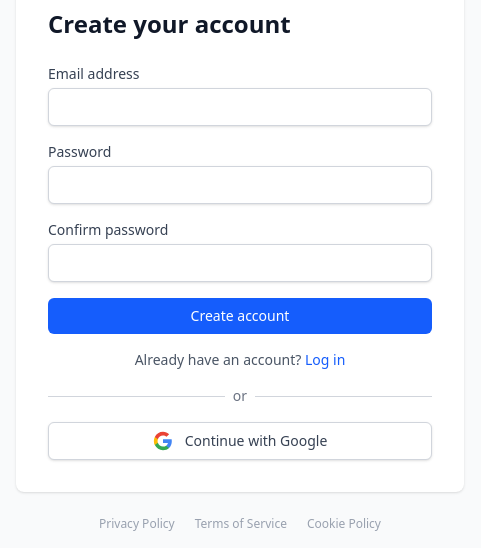
Test case: RegisterPage › switches to the OTP step after a successful registration submit
Type "new@example.com" into the field labelled "Email address". click: (240, 107)
box: [48,88,432,126]
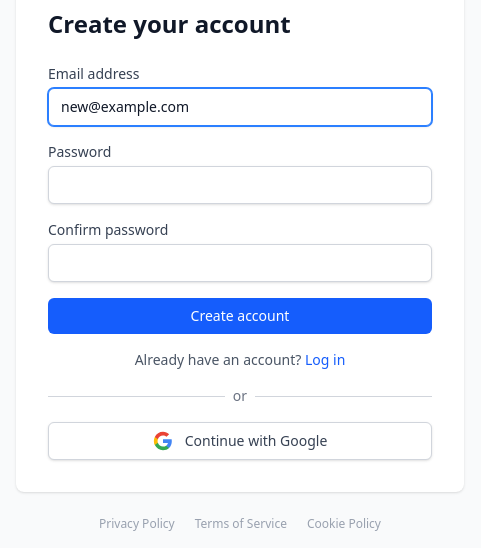
Type "password123" into the password field labelled "Password". click: (240, 185)
box: [48,166,432,204]
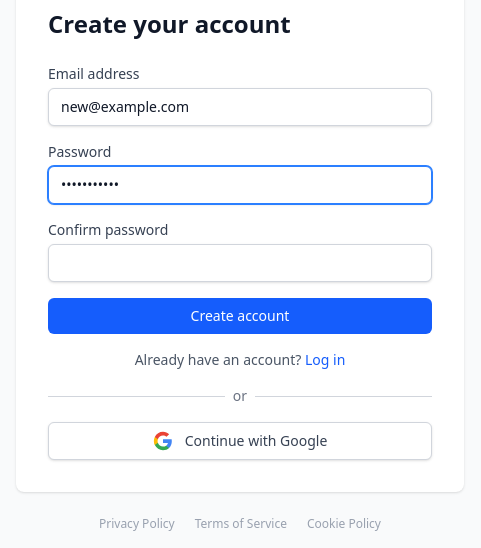
Type "password123" into the password field labelled "Confirm password". click: (240, 263)
box: [48,244,432,282]
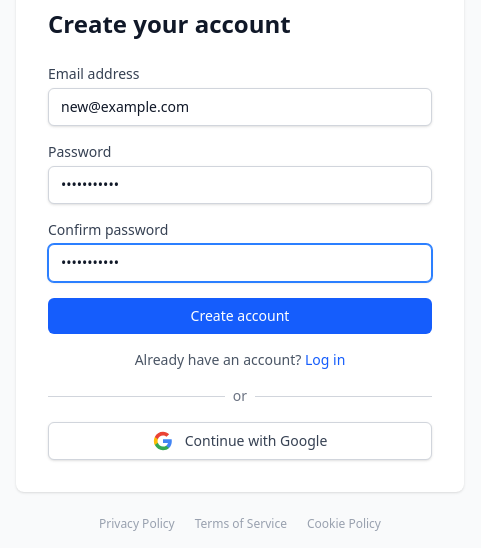
Click the button "Create account". click: click(240, 316)
box: [48,298,432,334]
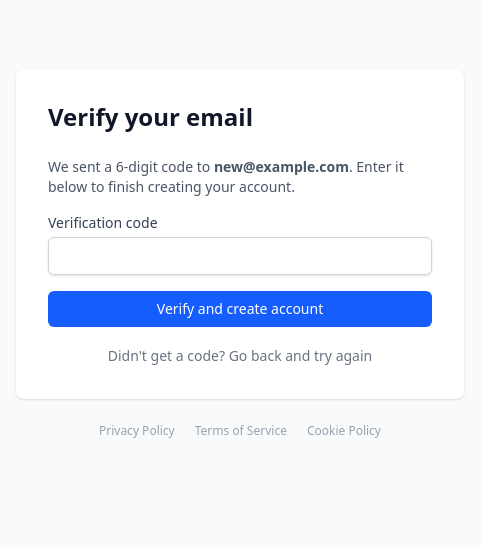
Now the heading "Verify your email" is shown, box [48,100,253,133]
Now the field labelled "Verification code" is shown, box [48,237,432,275]
Now the text "new@example.com" is shown, box [214,157,349,176]
